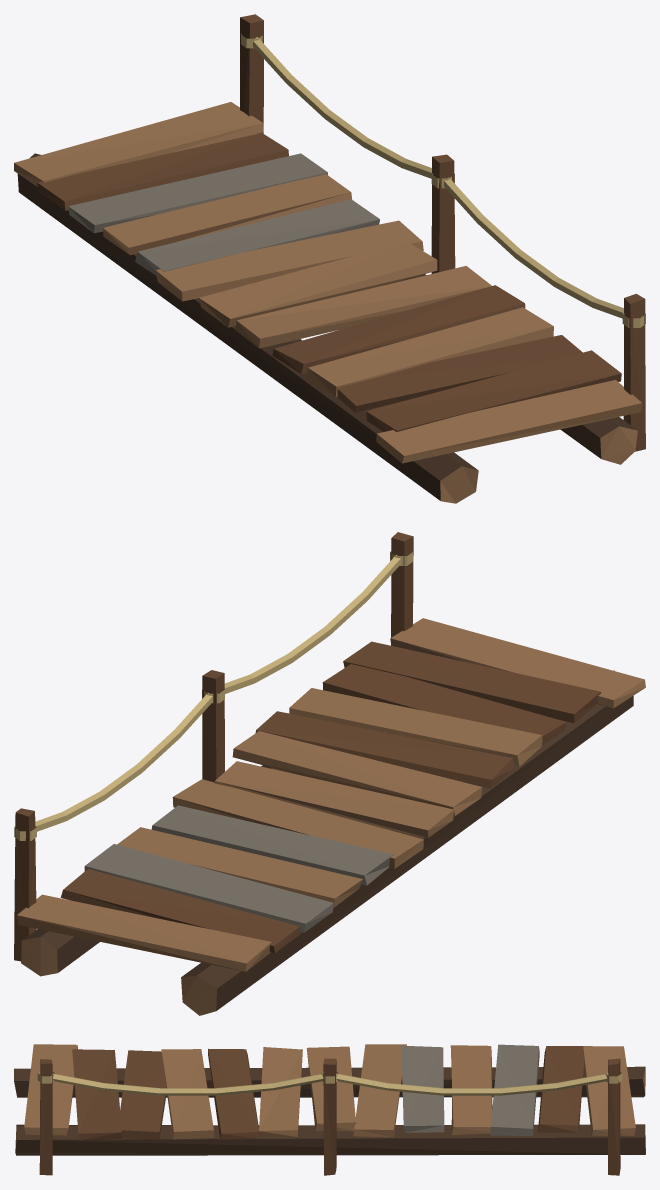
File: bridge_plank.fbx
3 renders of one model, top to bottom at view 1: azimuth 30°, elevation 25°; view 2: azimuth 150°, elevation 25°; view 3: azimuth 270°, elevation 25°, orthographic. The views are drawn at different scales.
Parts seen in each view (by area): view 1: bridge_plank; view 2: bridge_plank; view 3: bridge_plank.
Boxes of the visible parts, <box> form: bridge_plank: <box>14,14,645,503</box>; bridge_plank: <box>14,532,645,1015</box>; bridge_plank: <box>14,1044,645,1175</box>.
Bounding box in the file's own units: 2.11 × 1.22 × 6.24.
